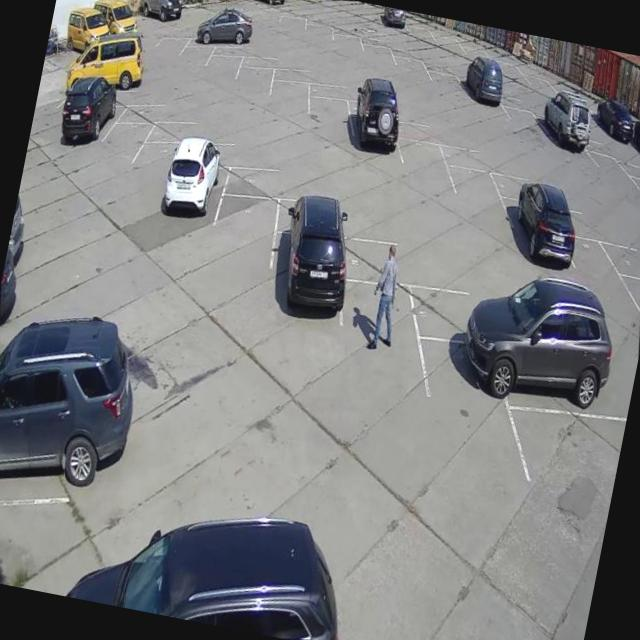car: (0, 353, 146, 504), (402, 334, 516, 476), (494, 314, 624, 415), (258, 220, 356, 338), (490, 192, 581, 286), (153, 156, 229, 244), (56, 86, 126, 155), (344, 98, 402, 168), (539, 110, 594, 174), (587, 98, 638, 154), (457, 70, 502, 131), (190, 20, 252, 59), (379, 6, 408, 32)
free: (0, 485, 149, 608), (510, 398, 627, 524), (325, 278, 422, 393), (402, 275, 515, 353), (198, 189, 282, 282), (334, 228, 432, 296), (434, 165, 506, 253), (384, 136, 454, 220), (558, 234, 626, 318), (272, 183, 364, 243), (122, 138, 182, 216), (220, 158, 308, 211), (486, 157, 550, 212), (144, 110, 220, 156), (583, 148, 637, 212), (95, 116, 151, 176), (436, 132, 500, 182), (301, 93, 353, 152), (497, 102, 548, 160), (176, 134, 246, 174), (558, 201, 614, 247), (122, 92, 186, 131), (392, 110, 448, 152), (266, 80, 312, 130), (419, 63, 461, 116), (386, 51, 428, 102), (600, 235, 640, 288), (506, 82, 554, 126), (232, 66, 274, 112), (356, 40, 396, 86), (303, 74, 352, 110), (210, 37, 264, 69), (204, 52, 242, 96), (326, 31, 364, 74), (270, 59, 318, 90), (302, 19, 336, 62), (178, 40, 214, 80), (274, 12, 308, 52), (487, 56, 526, 90), (238, 47, 282, 77), (154, 34, 186, 72)
